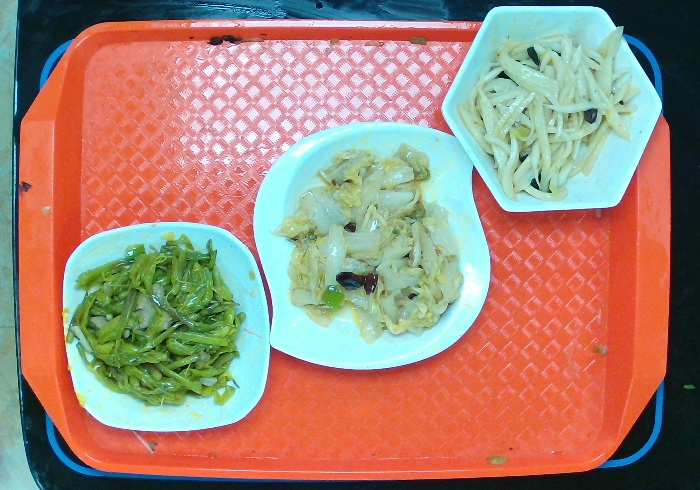RJxy-Liu_Jiao_Wan: (440, 1, 664, 216)
RJxy-Shuang_Jiao_Pan: (247, 119, 495, 372)
RJxy-Si_Fang_Wan: (58, 214, 272, 440)
